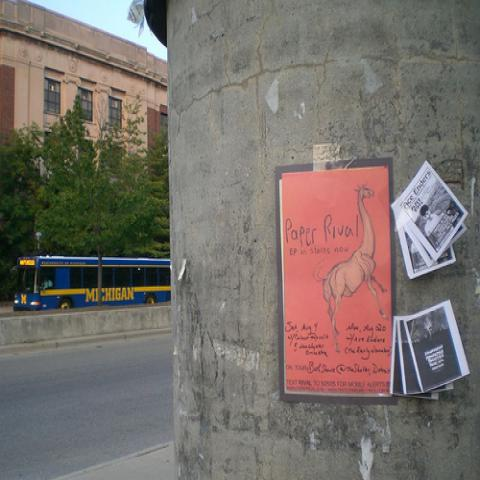bus: (11, 256, 172, 311)
